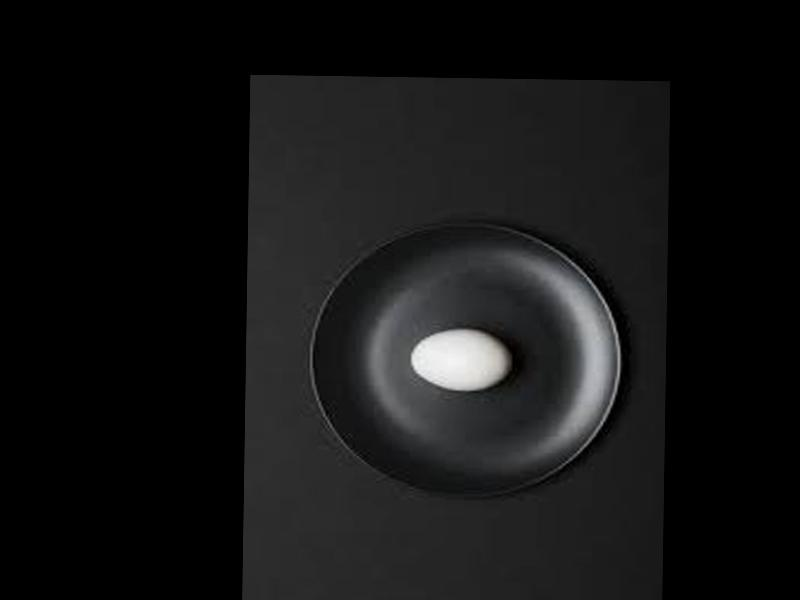Eggs: (411, 327, 510, 391)
